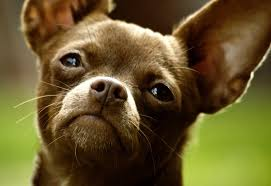chihuahua: (19, 1, 261, 181)
